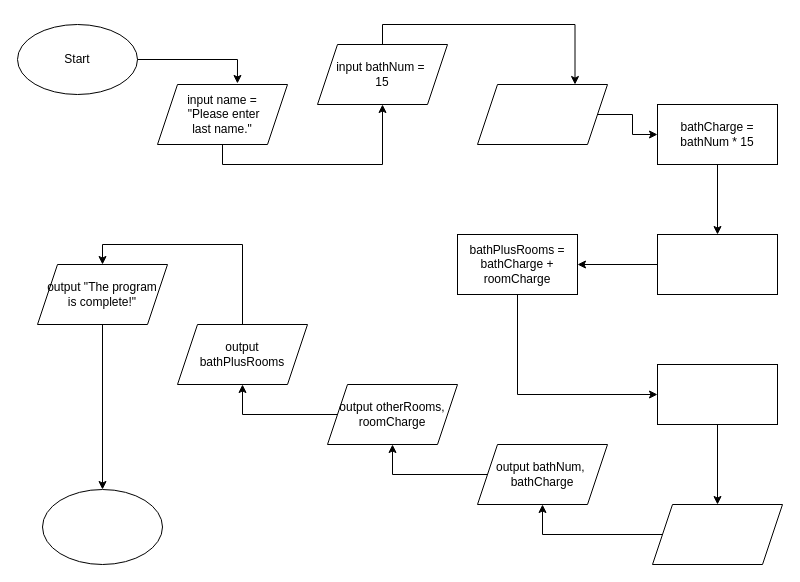
This 800x582 diagram has some shape labels left out. The shapes that lost their labels are listed below. From the top down, each one's centre as x and y in pixels, then its label:
pixel 542 114: input otherRooms = 6
pixel 717 264: roomCharge = otherRooms * 10
pixel 717 394: serviceCharge = 40 + bathPlusRooms
pixel 102 526: Stop
pixel 717 534: output name
